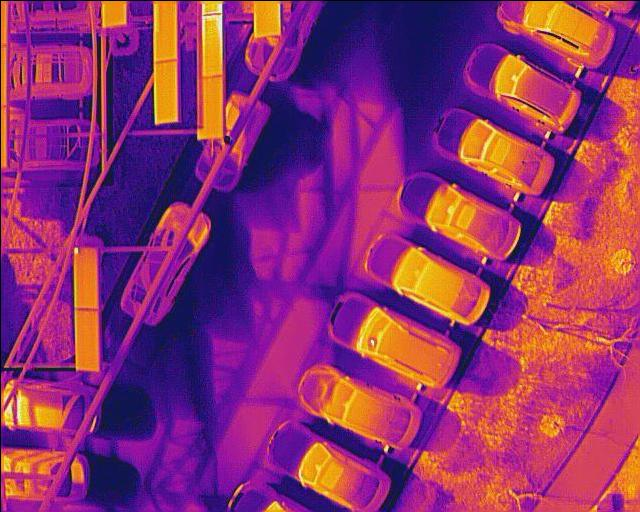Cell: (73, 247, 97, 308)
No-Anomaly: (152, 0, 176, 62), (152, 60, 176, 121), (75, 309, 98, 370), (202, 77, 223, 140)
Unclassified: (201, 13, 222, 78)
